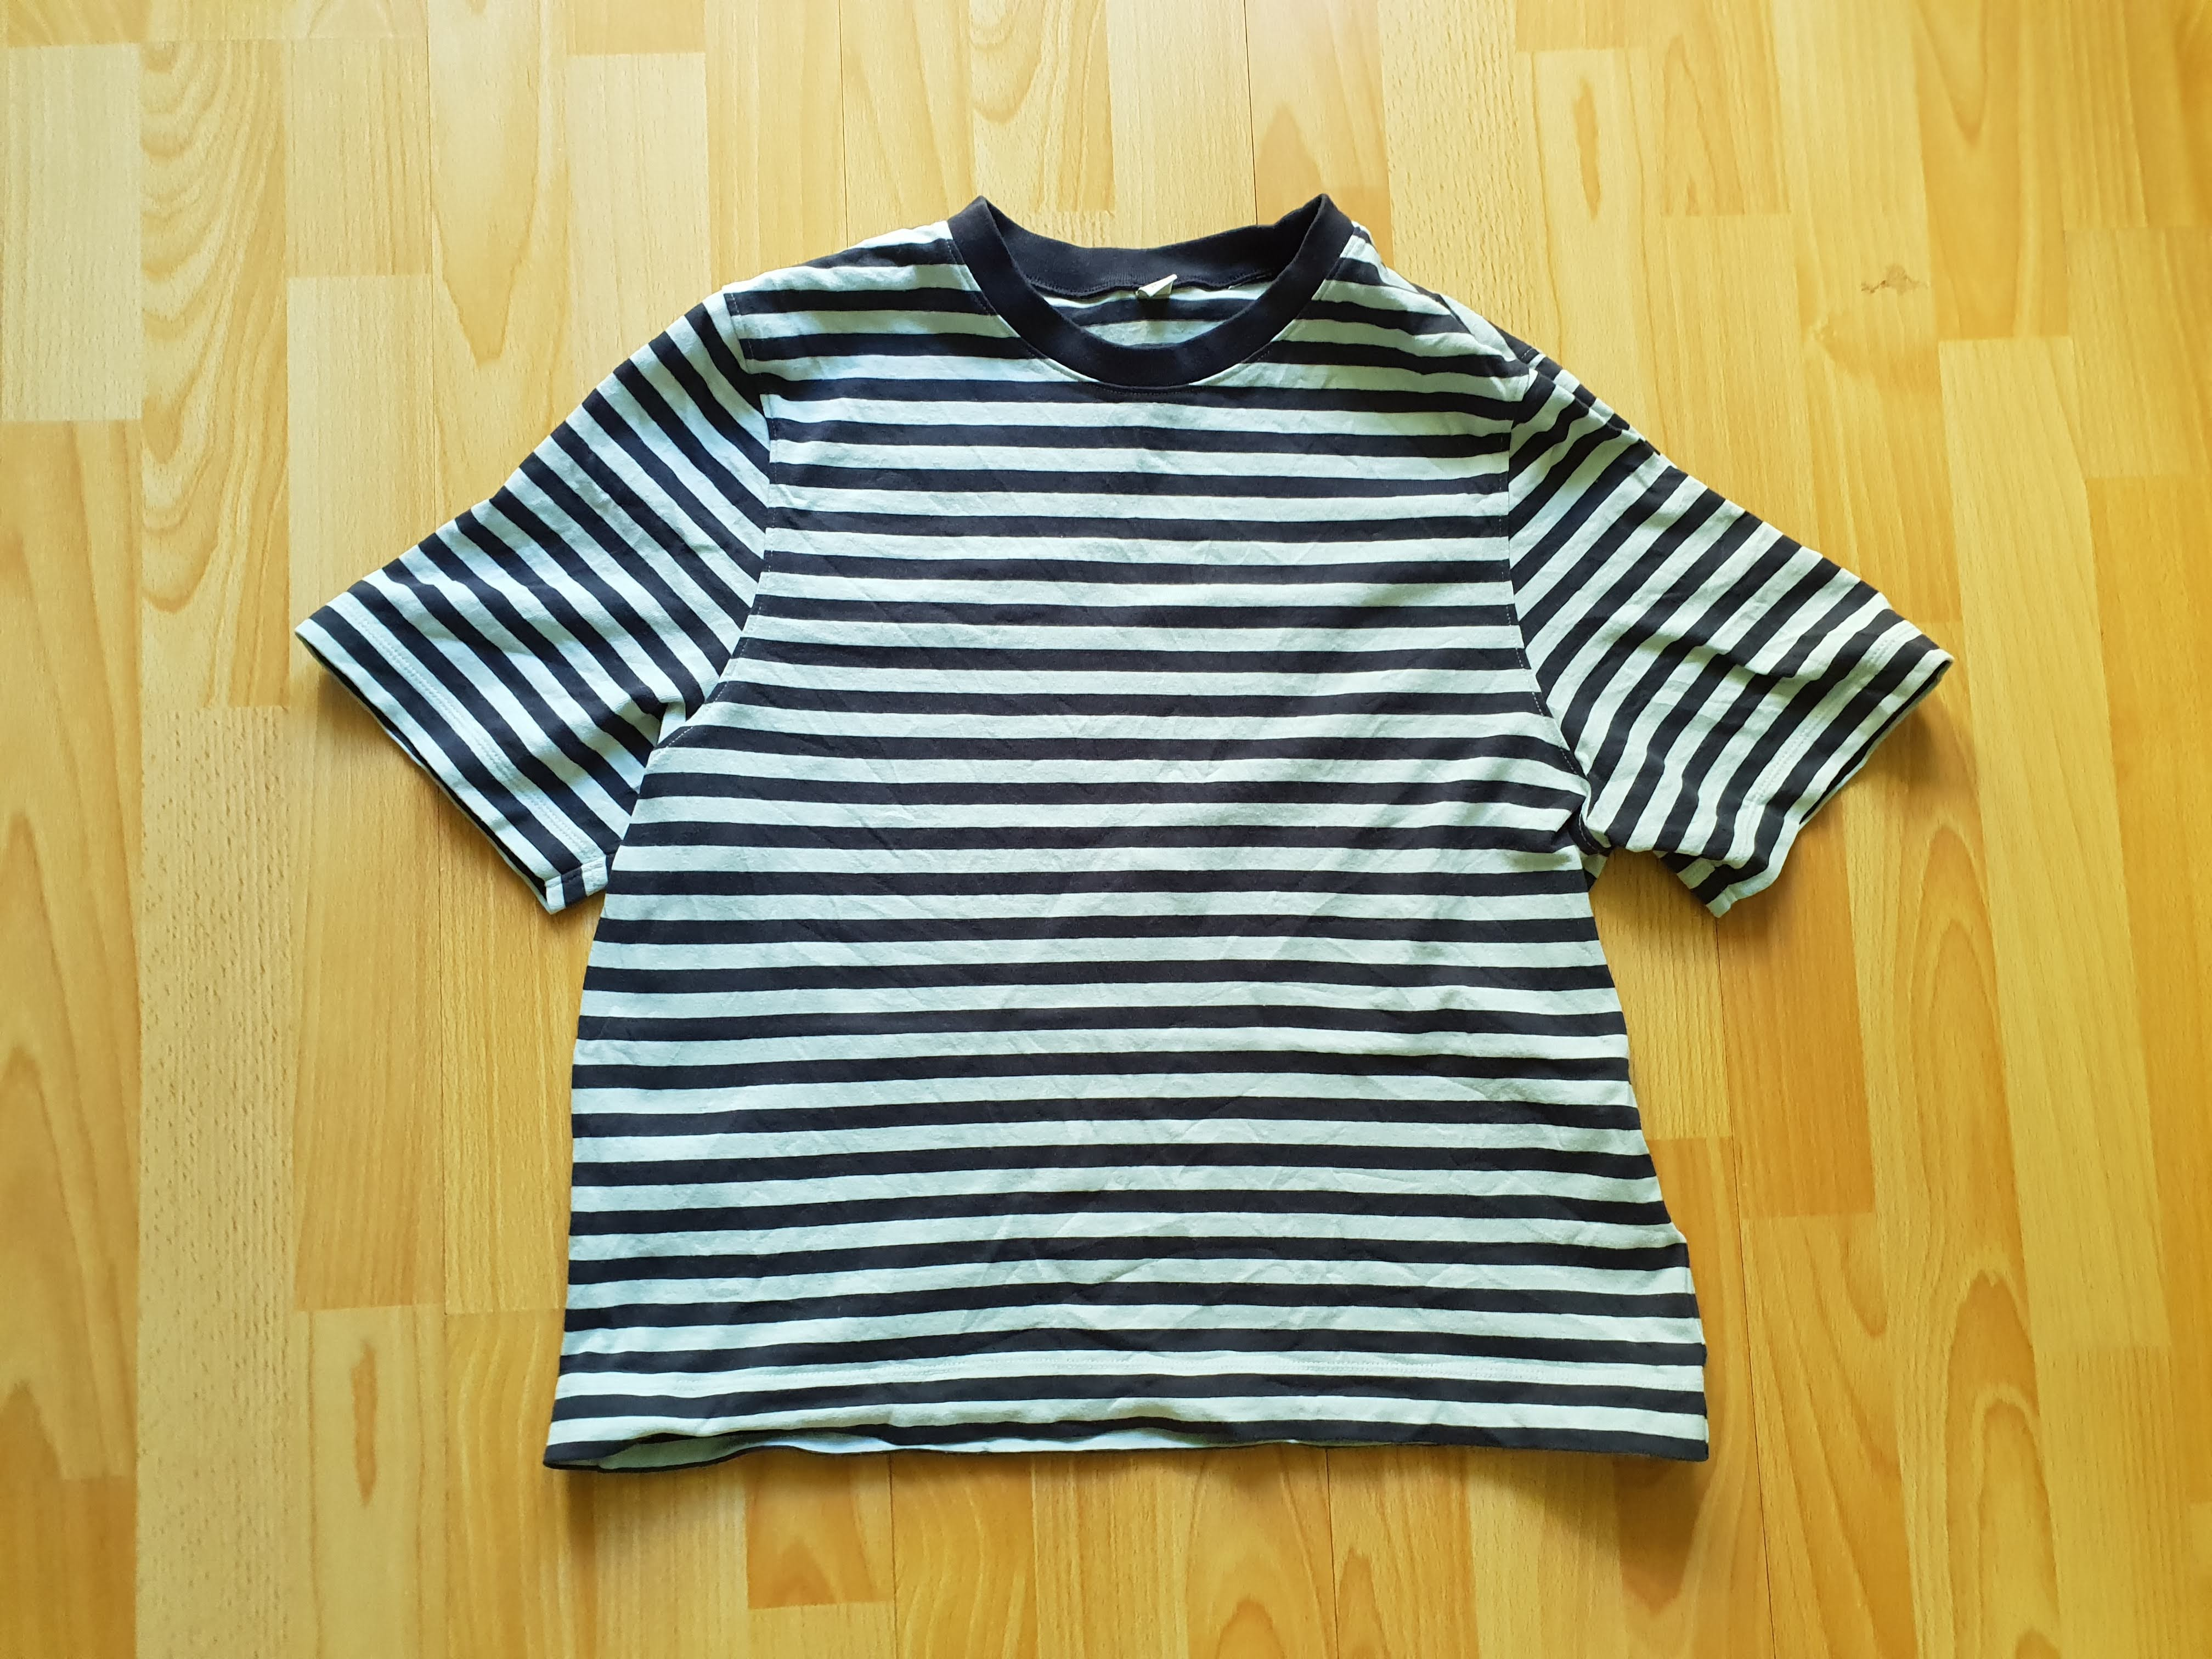clothes: (284, 171, 1949, 1464)
